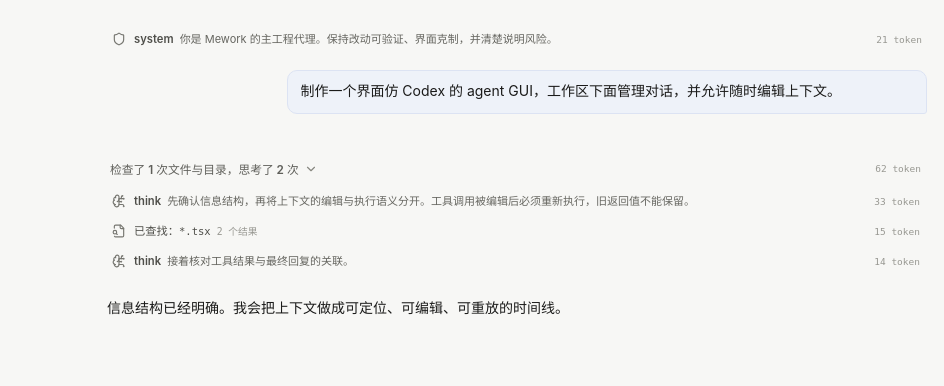
ContextStream › offers exactly five insertable context kinds and never encrypted reasoning
The image size is (944, 386).
Right-click the element with class "context-stream" at (517, 185), box x1=107 y1=0 x2=927 y2=369
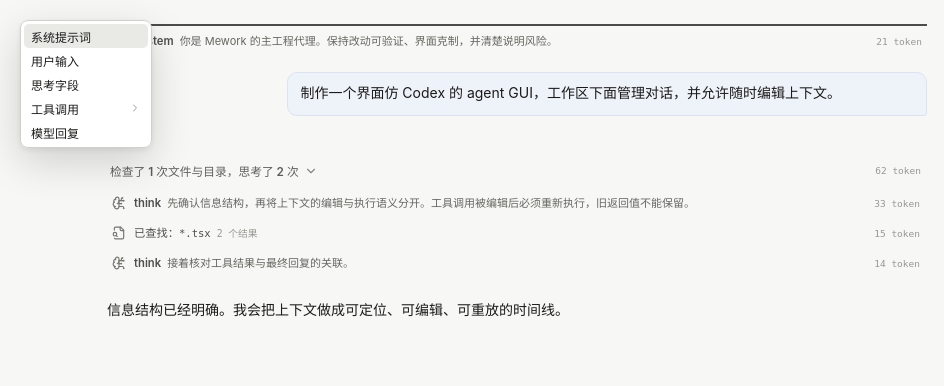
Now the menu is shown, box x1=20 y1=20 x2=152 y2=148
Now the number of menu items is 5, box x1=24 y1=24 x2=148 y2=48; x1=24 y1=48 x2=148 y2=72; x1=24 y1=72 x2=148 y2=96; x1=24 y1=96 x2=148 y2=120; x1=24 y1=120 x2=148 y2=144
Now the menu item "系统提示词" is shown, box x1=24 y1=24 x2=148 y2=48
